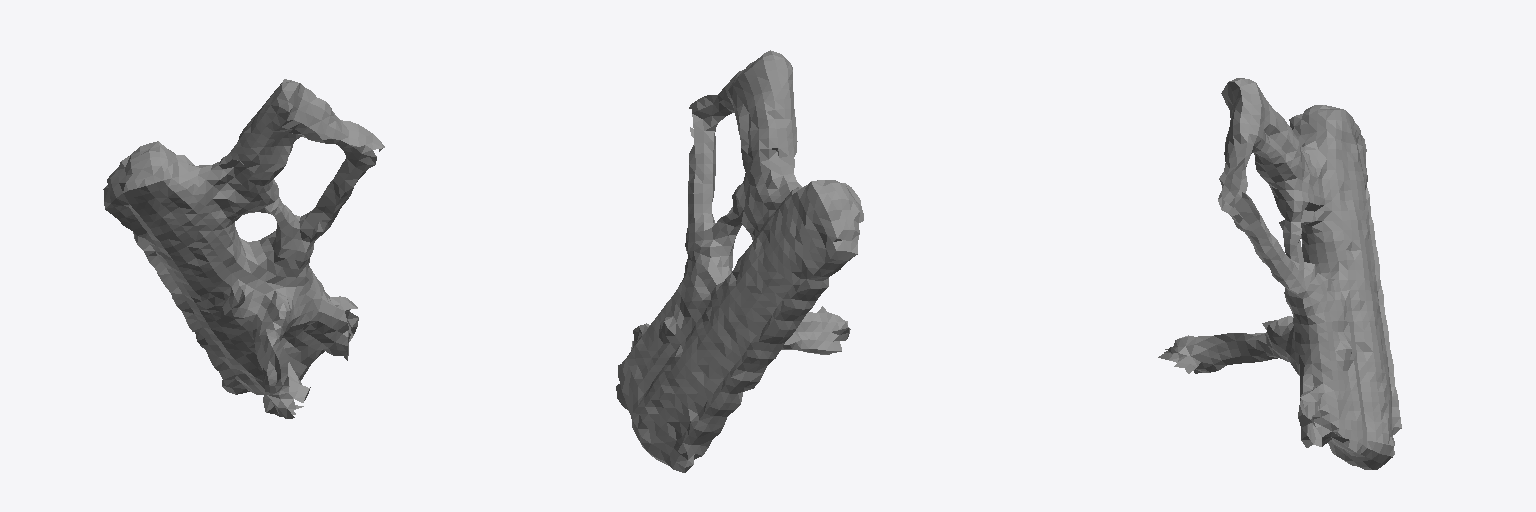
Rendered from lowPolyDone.obj.
3 renders of one model, left to right at view 1: azimuth 30°, elevation 25°; view 2: azimuth 150°, elevation 25°; view 3: azimuth 270°, elevation 25°, orthographic.
Parts seen in each view (by area): view 1: texturedMesh.001; view 2: texturedMesh.001; view 3: texturedMesh.001.
Boxes of the visible parts, <box> form: texturedMesh.001: <box>103,79,384,418</box>; texturedMesh.001: <box>616,50,863,472</box>; texturedMesh.001: <box>1158,78,1401,469</box>.
Bounding box in the file's own units: 0.8407 × 1.23 × 0.7373.